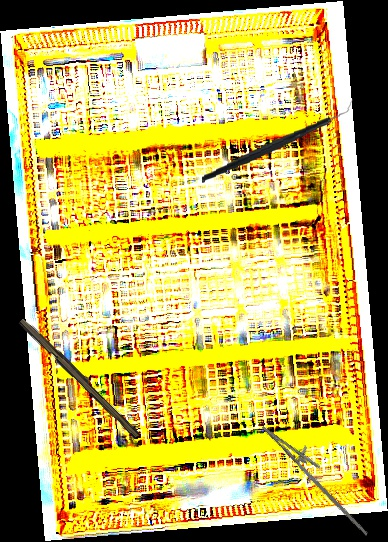Chopper: (196, 98, 359, 183)
Needle Holder: (250, 416, 387, 537)
Scalpel Handle: (16, 315, 144, 440)
